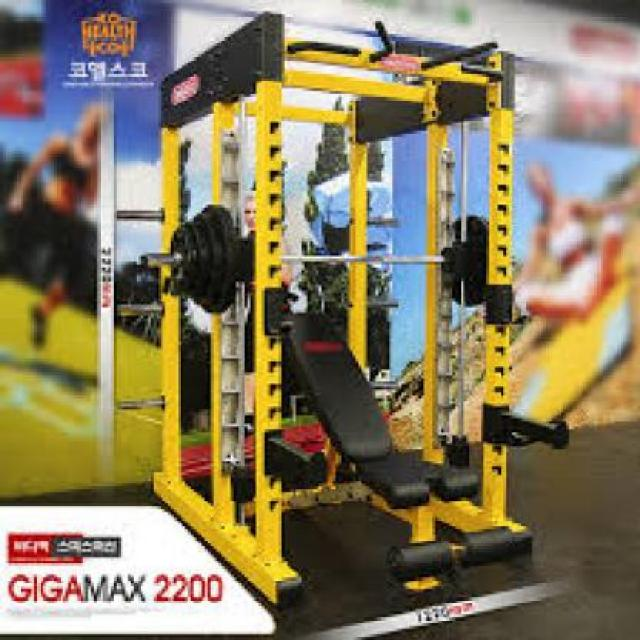smith machine: (154, 15, 572, 571)
